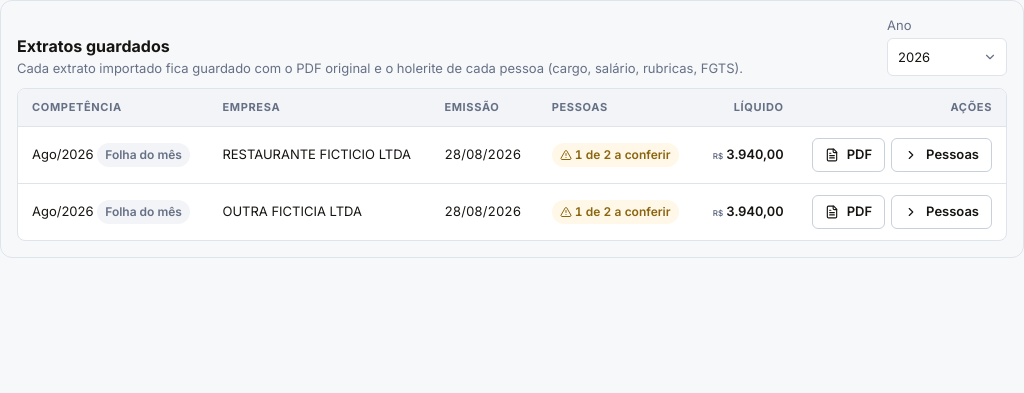
Test: ExtratosGuardados › alternar rápido entre extratos: a resposta atrasada do primeiro não aparece no segundo
Expected: the text "OUTRA FICTICIA LTDA" is shown, [208,183,430,240]
Click the button "Pessoas" in the row of "RESTAURANTE FICTICIO LTDA" at coordinates (942, 155), box [891,138,992,172]
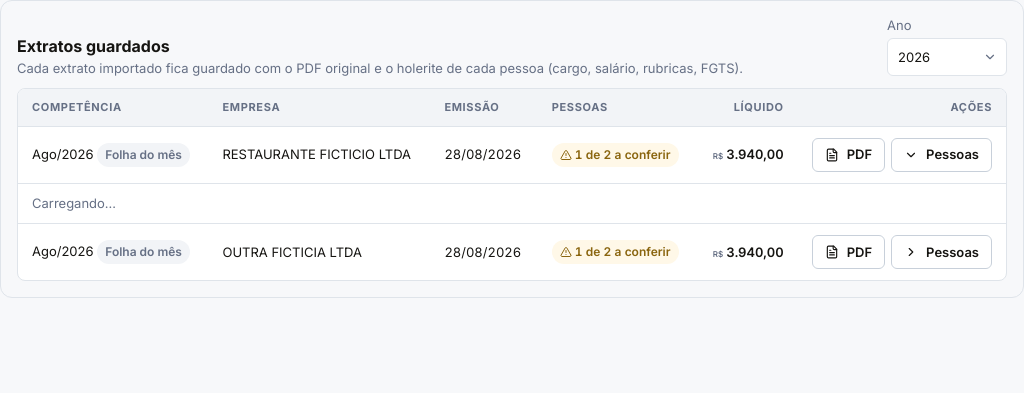
Click the button "Pessoas" in the row of "OUTRA FICTICIA LTDA" at coordinates (942, 252), box [891,235,992,269]
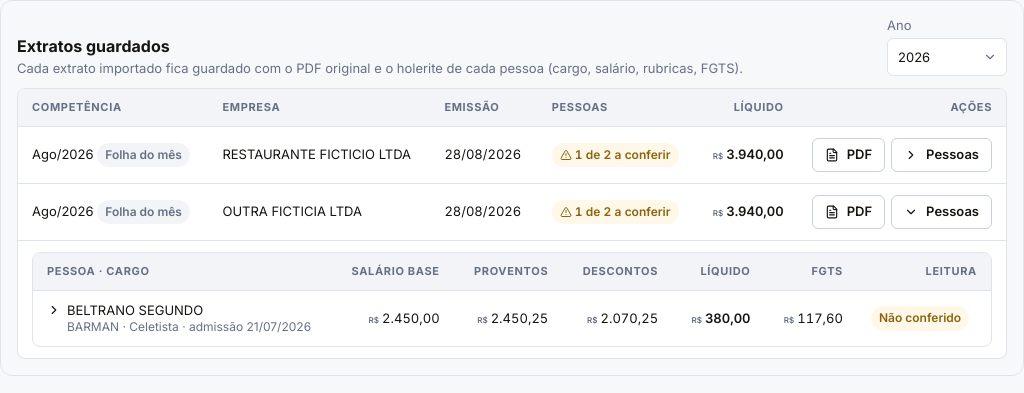
Result: the button "BELTRANO SEGUNDO" is shown at [47,302,203,319]
